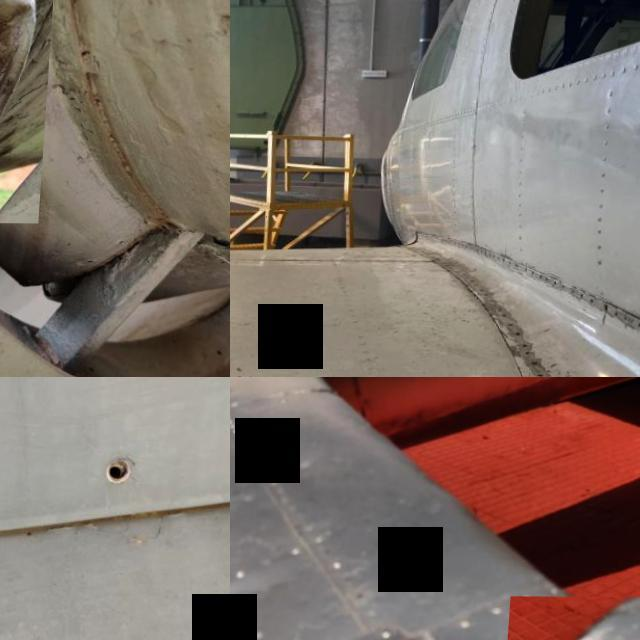Dent: (0, 0, 59, 223)
Missing_Fastener: (94, 439, 154, 498), (542, 373, 550, 377), (620, 310, 624, 316), (594, 298, 600, 302), (585, 293, 590, 297), (531, 351, 537, 354), (522, 332, 526, 336), (515, 322, 519, 326), (508, 314, 512, 318), (576, 290, 580, 294), (567, 284, 571, 288), (558, 280, 562, 284), (549, 278, 553, 282), (544, 274, 548, 278), (536, 270, 540, 274), (539, 361, 544, 364), (529, 266, 532, 270), (528, 344, 532, 346)
